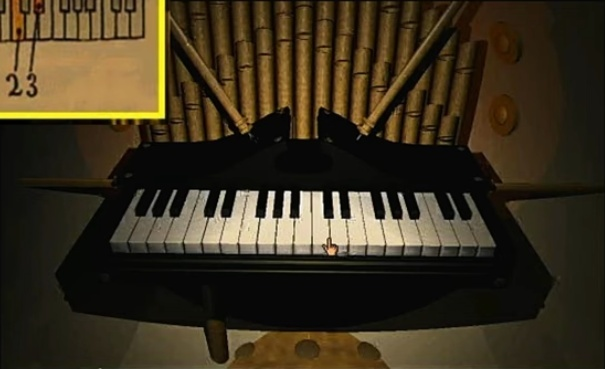Pointer: (318, 233, 343, 259)
